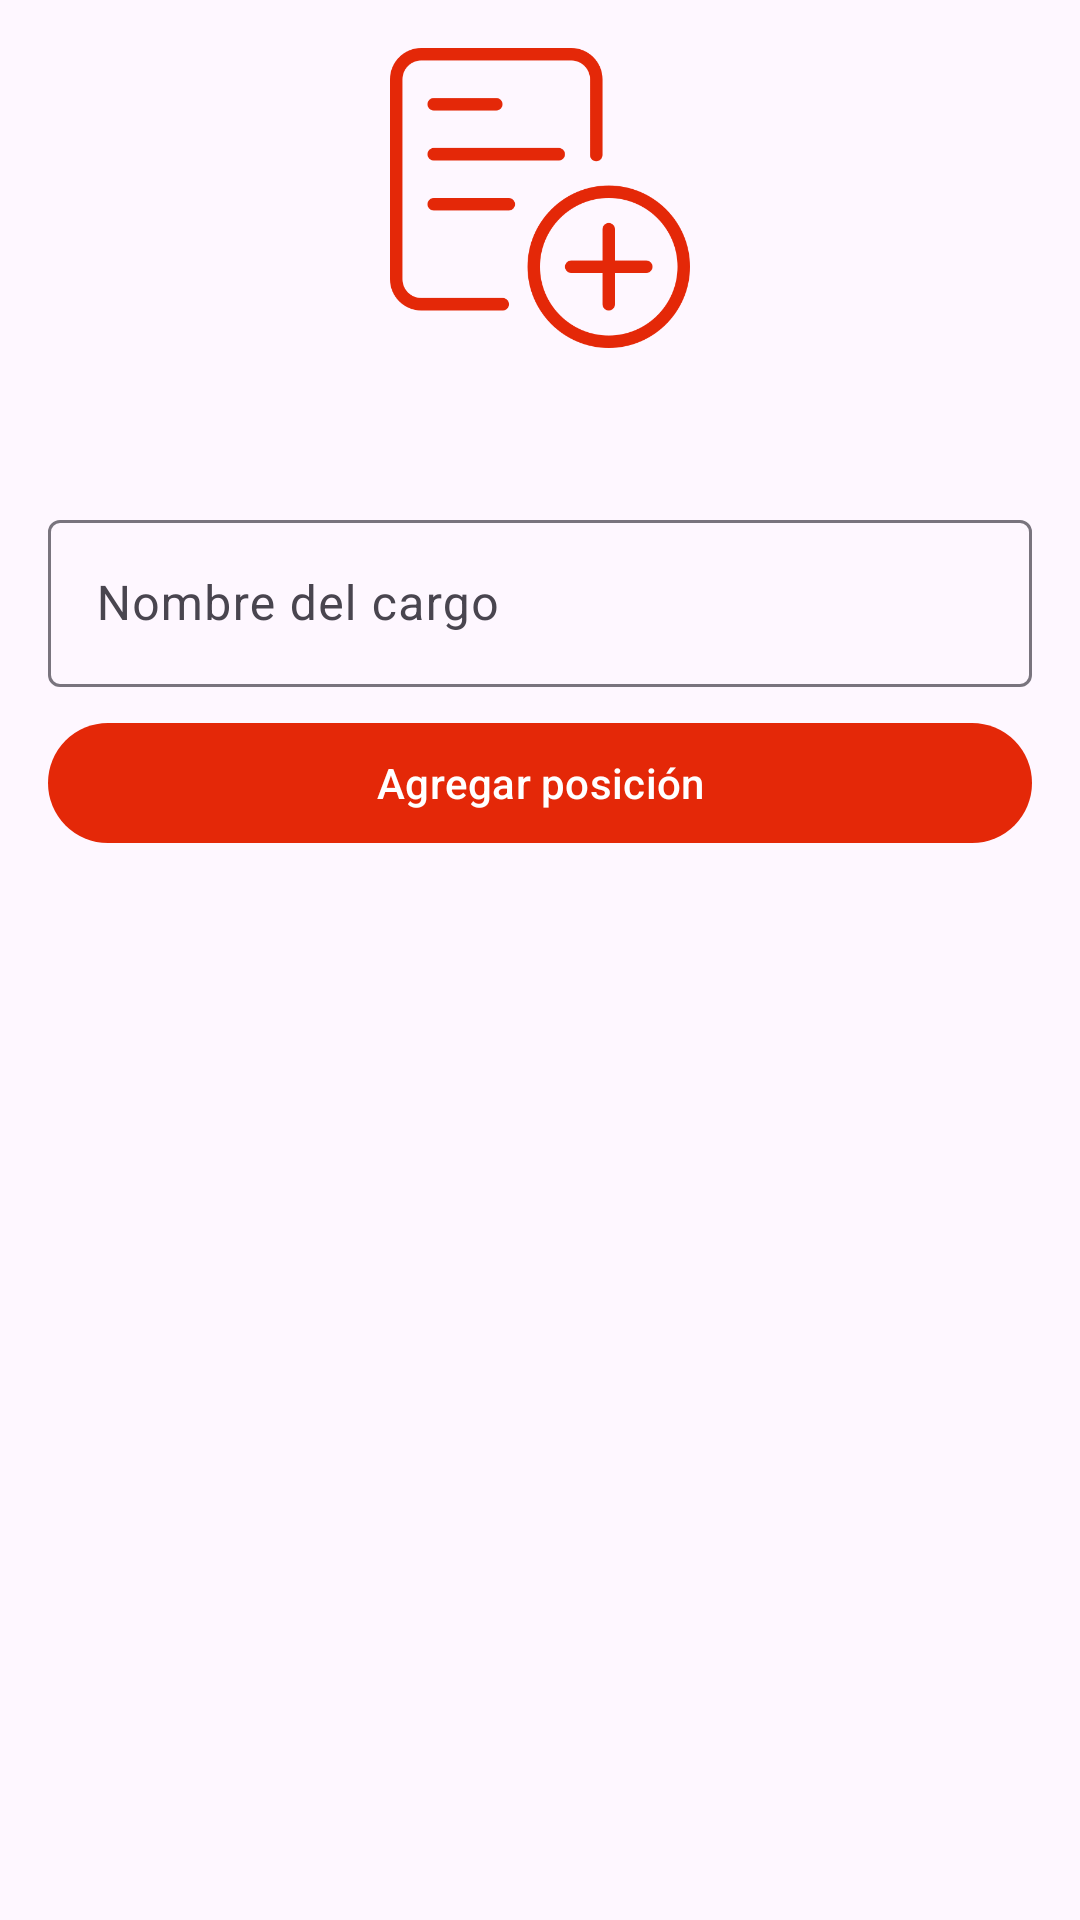

Locate icon controls on the screen. Image size 1080w x 1920h, boxes as [left=x1, top=y1, right=x2, bottom=y2].
add position: [left=390, top=48, right=690, bottom=348]
